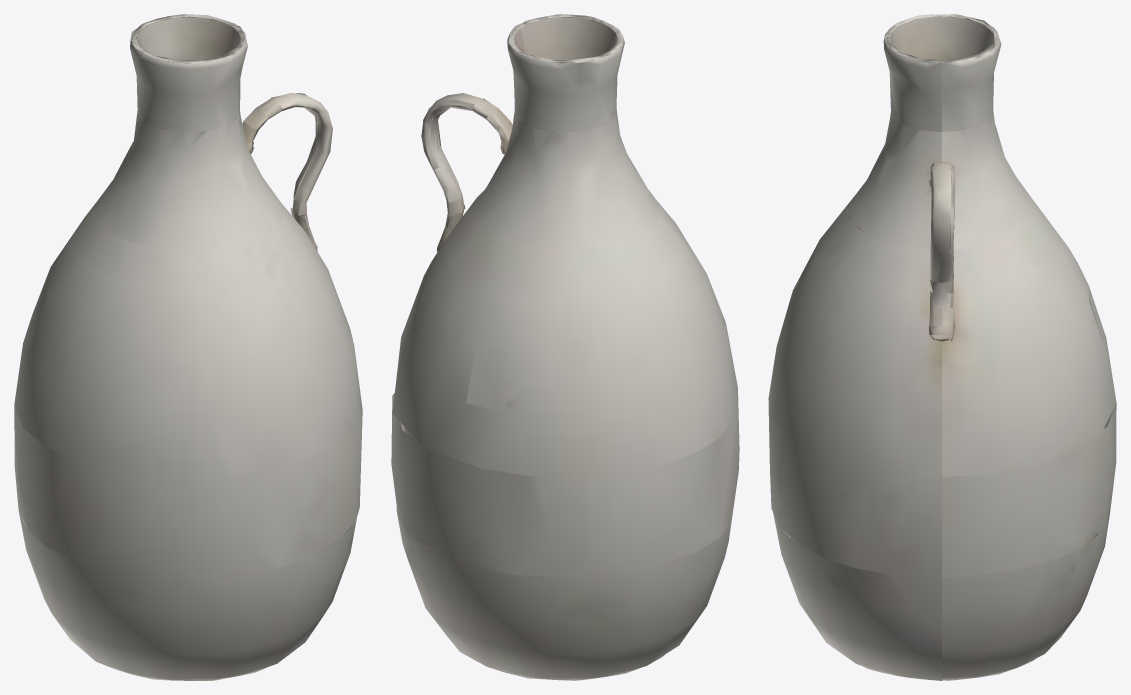
The model's file is vase_bottle.glb.
3 renders of one model, left to right at view 1: azimuth 30°, elevation 25°; view 2: azimuth 150°, elevation 25°; view 3: azimuth 270°, elevation 25°, orthographic.
Visible parts, largest first — view 1: vase_bottle; view 2: vase_bottle; view 3: vase_bottle.
Part boxes in pixels (<box>): vase_bottle: <box>14,14,362,680</box>; vase_bottle: <box>391,14,739,680</box>; vase_bottle: <box>768,14,1116,680</box>.
Size of the model in its own units: 0.1811 by 0.3418 by 0.1807.
Materials: 1 (1 with a texture image).
